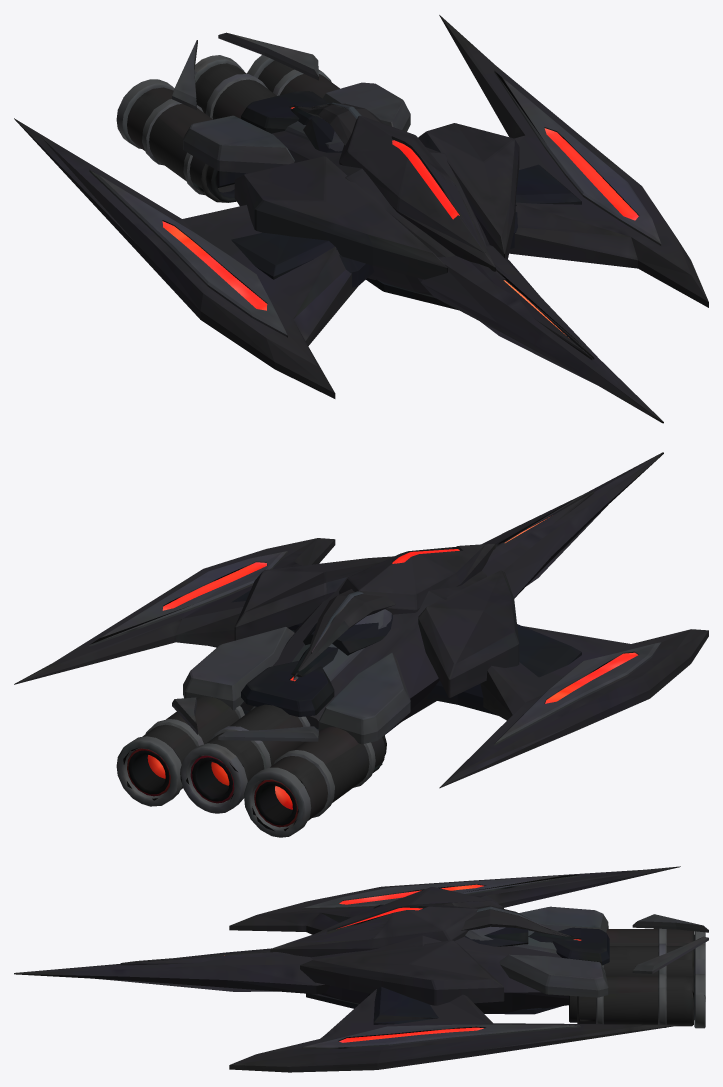
3 renders of one model, top to bottom at view 1: azimuth 30°, elevation 25°; view 2: azimuth 150°, elevation 25°; view 3: azimuth 270°, elevation 25°, orthographic. The views are drawn at different scales.
Visible parts, largest first — view 1: S1_EnemyFighter_Spear_LOD1; view 2: S1_EnemyFighter_Spear_LOD1; view 3: S1_EnemyFighter_Spear_LOD1.
Boxes of the visible parts, x1,y1,x2,y2 form: S1_EnemyFighter_Spear_LOD1: (14, 15, 708, 423); S1_EnemyFighter_Spear_LOD1: (14, 452, 708, 837); S1_EnemyFighter_Spear_LOD1: (14, 866, 708, 1072).
Bounding box in the file's own units: 6.64 × 1.86 × 11.65.
1 material, 1 textured.
